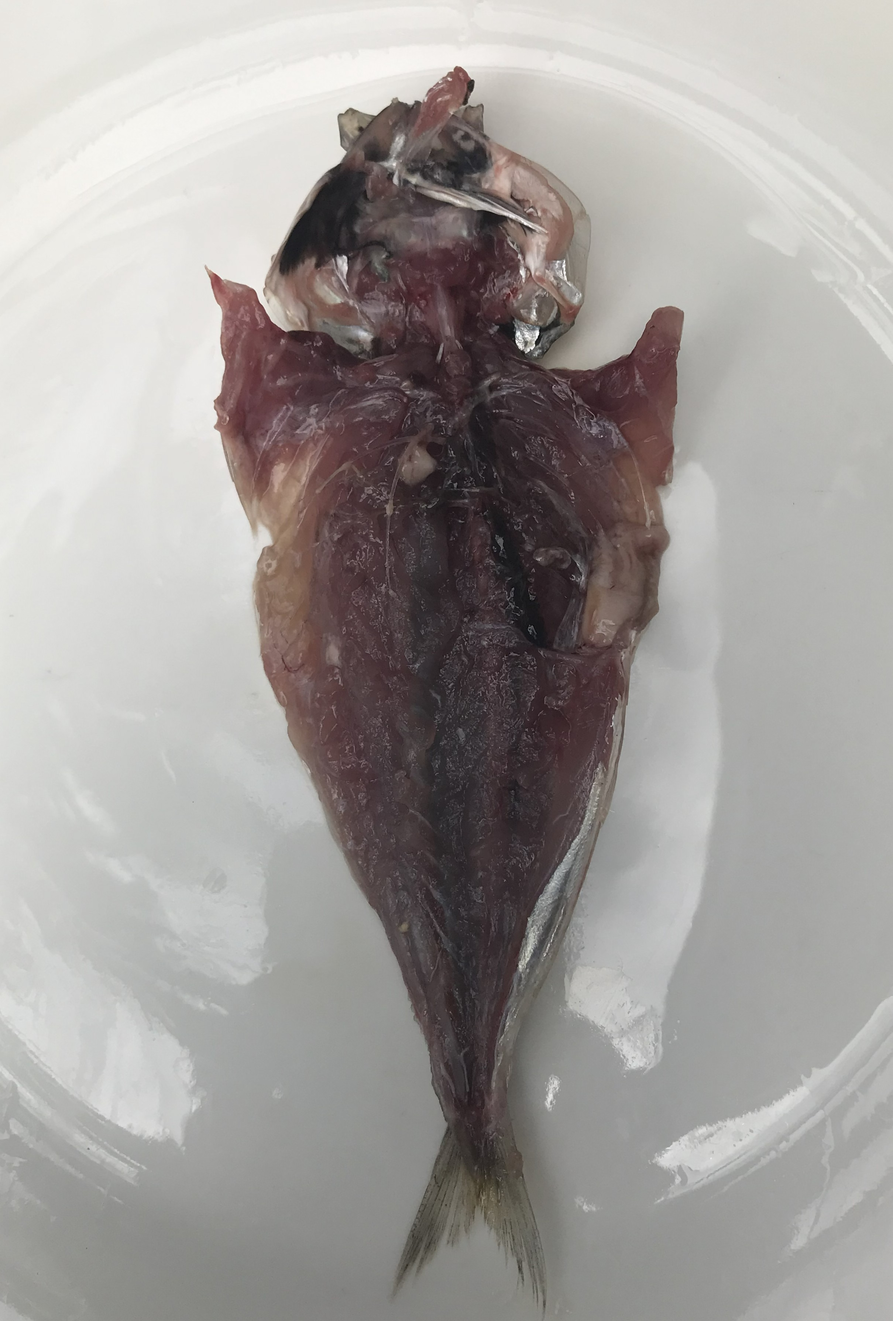barol_not_dried: (209, 67, 684, 1321)
